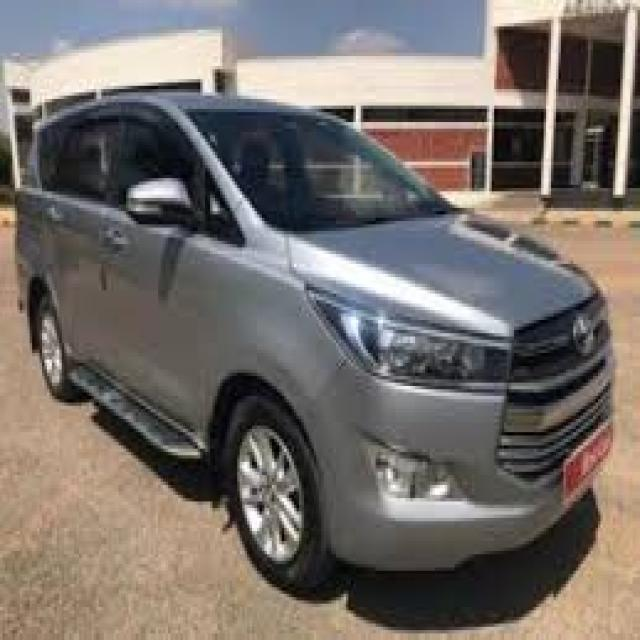Car: (16, 95, 614, 587)
